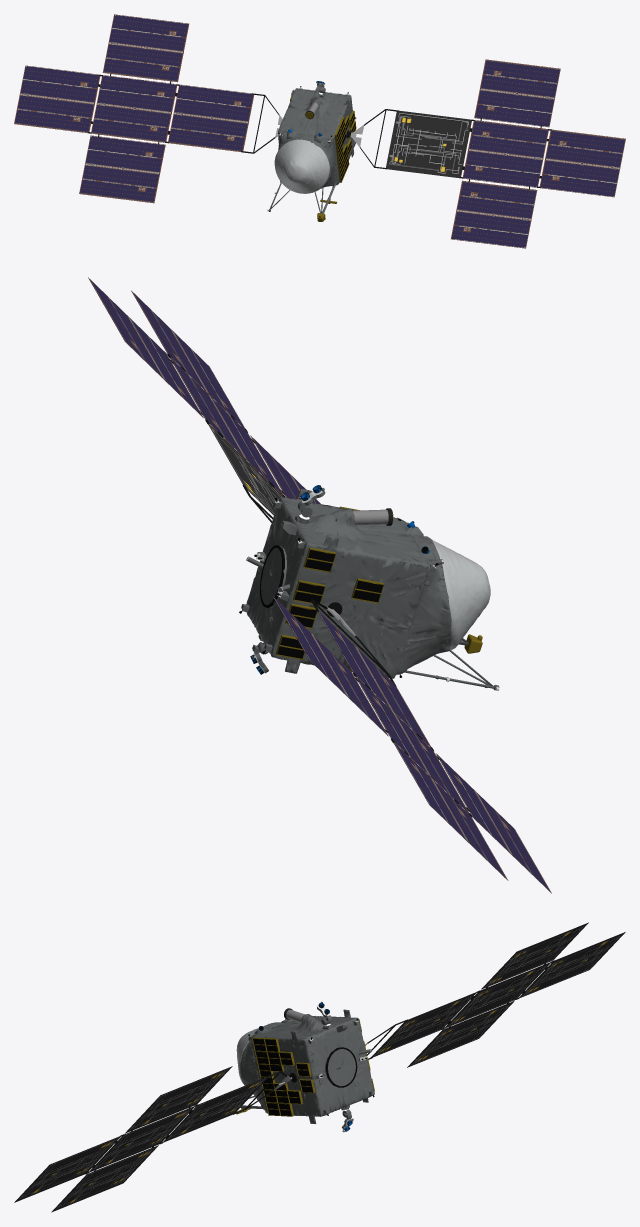
The model's file is satellite_light.glb.
3 views of the same model, one above another, from view 1: azimuth 30°, elevation 25°; view 2: azimuth 150°, elevation 25°; view 3: azimuth 270°, elevation 25° (orthographic). The views are drawn at different scales.
Visible parts, largest first — view 1: lower_panel, upper_panel.026, upper_panel.027, upper_panel.004, upper_panel.024, upper_panel.025, body, germanium_cover, lower_louvre, body_2, lower_panel_holder; view 2: body, lower_panel, body_2, germanium_cover, upper_louvre, upper_panel.026, upper_panel.027, upper_panel.004, upper_panel.025, upper_panel.024, anti_earth; view 3: lower_panel, body, lower_louvre, upper_panel.026, upper_panel.027, upper_panel.024, upper_panel.004, upper_panel.025, anti_earth, body_2.
Boxes of the visible parts, left/top/right/bottom form: lower_panel: left=386, top=59, right=625, bottom=248; upper_panel.026: left=102, top=14, right=189, bottom=82; upper_panel.027: left=79, top=135, right=165, bottom=203; upper_panel.004: left=14, top=65, right=100, bottom=133; upper_panel.024: left=168, top=84, right=253, bottom=151; upper_panel.025: left=91, top=75, right=176, bottom=142; body: left=278, top=88, right=355, bottom=185; germanium_cover: left=274, top=139, right=329, bottom=193; lower_louvre: left=334, top=110, right=356, bottom=182; body_2: left=274, top=131, right=337, bottom=192; lower_panel_holder: left=346, top=109, right=398, bottom=169; body: left=246, top=489, right=436, bottom=678; lower_panel: left=88, top=277, right=320, bottom=515; body_2: left=396, top=521, right=451, bottom=674; germanium_cover: left=431, top=539, right=490, bottom=649; upper_louvre: left=275, top=547, right=384, bottom=659; upper_panel.026: left=272, top=596, right=388, bottom=736; upper_panel.027: left=436, top=753, right=551, bottom=893; upper_panel.004: left=392, top=740, right=508, bottom=880; upper_panel.025: left=354, top=675, right=468, bottom=813; upper_panel.024: left=317, top=611, right=430, bottom=747; anti_earth: left=260, top=545, right=286, bottom=607; lower_panel: left=14, top=1066, right=267, bottom=1212; body: left=250, top=1009, right=374, bottom=1123; lower_louvre: left=252, top=1037, right=315, bottom=1116; upper_panel.026: left=481, top=922, right=588, bottom=989; upper_panel.027: left=407, top=1000, right=514, bottom=1067; upper_panel.024: left=370, top=991, right=477, bottom=1057; upper_panel.004: left=518, top=932, right=625, bottom=998; upper_panel.025: left=445, top=961, right=551, bottom=1027; anti_earth: left=325, top=1047, right=357, bottom=1087; body_2: left=240, top=1022, right=284, bottom=1110.
Bounding box in the file's own units: 31.27 × 9.68 × 32.43.
89 materials, 11 textured.
